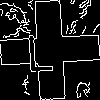L: (25, 25, 55, 72)
